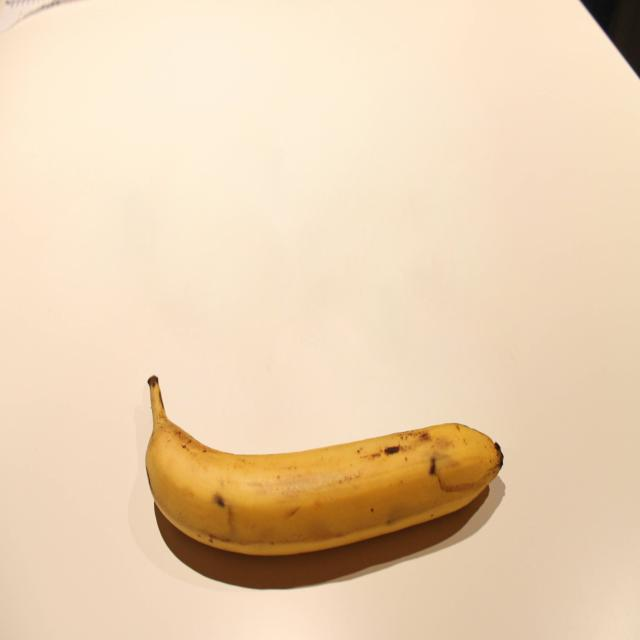Banana: (137, 374, 506, 559)
